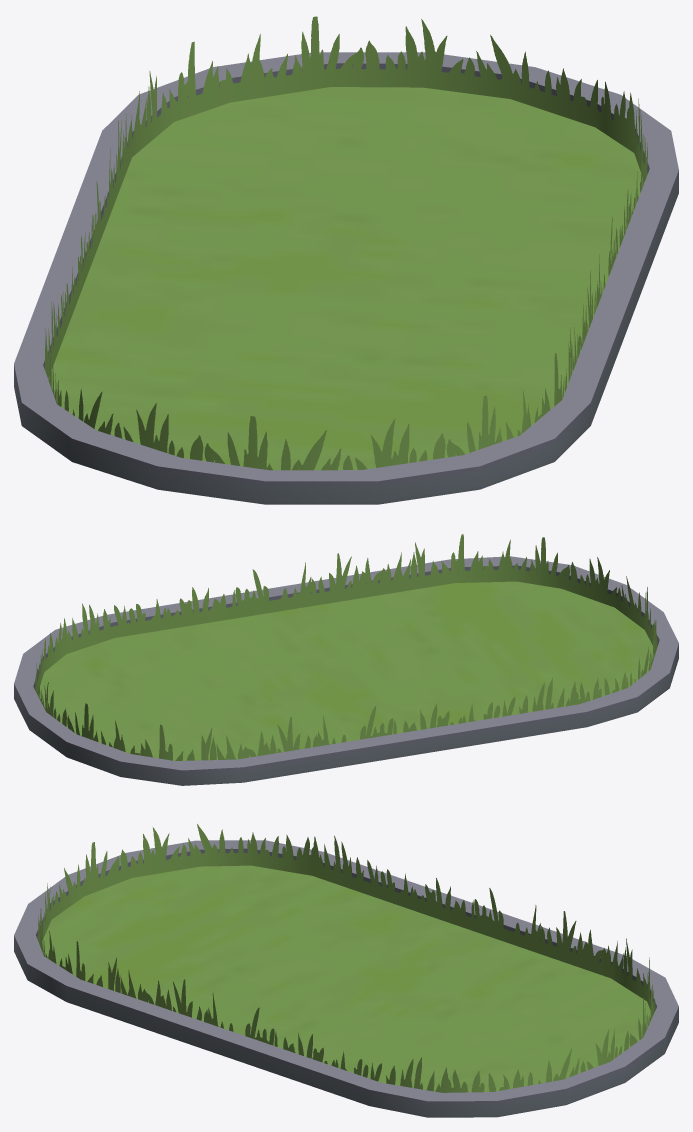
Rendered from MiniPlatform.fbx.
3 renders of one model, top to bottom at view 1: azimuth 30°, elevation 25°; view 2: azimuth 150°, elevation 25°; view 3: azimuth 270°, elevation 25°, orthographic. The views are drawn at different scales.
Parts seen in each view (by area): view 1: Grass_5, BorderGrass_5; view 2: Grass_5, BorderGrass_5; view 3: Grass_5, BorderGrass_5.
Boxes of the visible parts, <box> form: Grass_5: <box>45,16,647,470</box>; BorderGrass_5: <box>14,52,678,504</box>; Grass_5: <box>35,534,657,760</box>; BorderGrass_5: <box>14,556,678,785</box>; Grass_5: <box>37,824,655,1092</box>; BorderGrass_5: <box>14,840,678,1117</box>.
Bounding box in the file's own units: 211 × 19.42 × 227.
